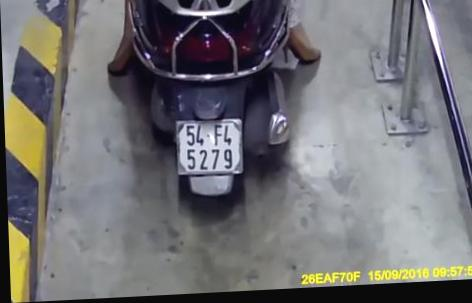License_Plate: (168, 113, 252, 184)
